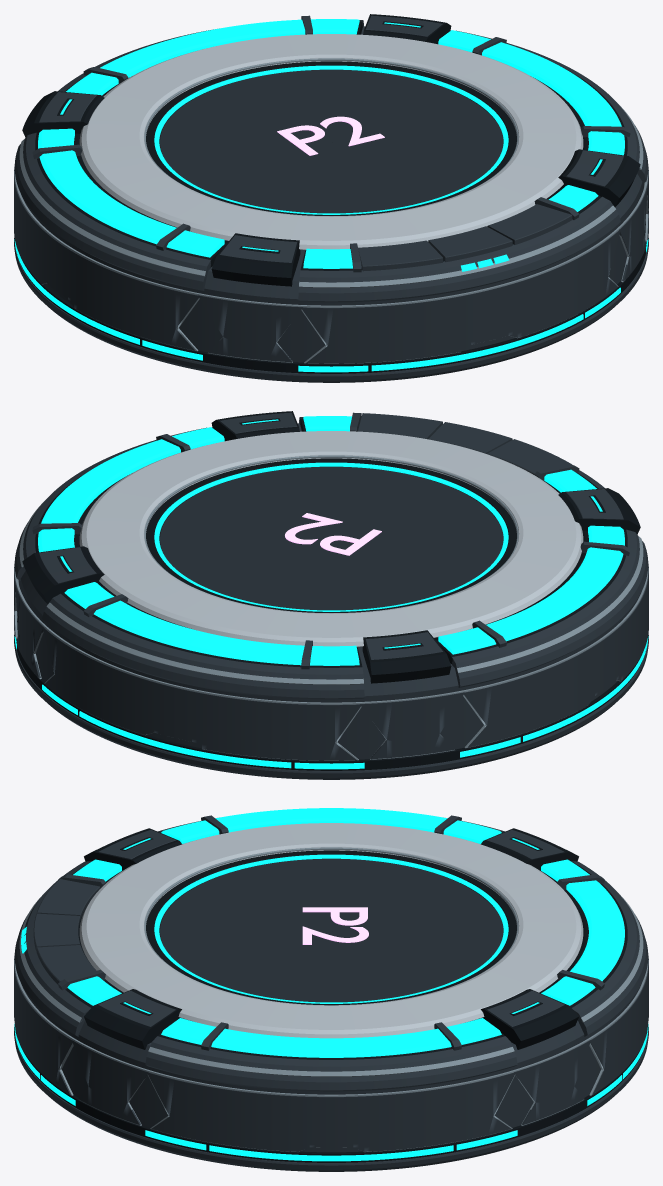
Rendered from Slider.fbx.
The picture shows the model from 3 angles, top to bottom: view 1: azimuth 30°, elevation 25°; view 2: azimuth 150°, elevation 25°; view 3: azimuth 270°, elevation 25°; orthographic projection.
Parts seen in each view (by area): view 1: SM_Puck_Slider_P2_HighDetail; view 2: SM_Puck_Slider_P2_HighDetail; view 3: SM_Puck_Slider_P2_HighDetail.
Part boxes in pixels (box(x1,y1,x2,y2)): SM_Puck_Slider_P2_HighDetail: box(14, 14, 648, 382); SM_Puck_Slider_P2_HighDetail: box(14, 411, 648, 779); SM_Puck_Slider_P2_HighDetail: box(14, 808, 648, 1171).
Bounding box in the file's own units: 89.9 × 89.9 × 18.3.
